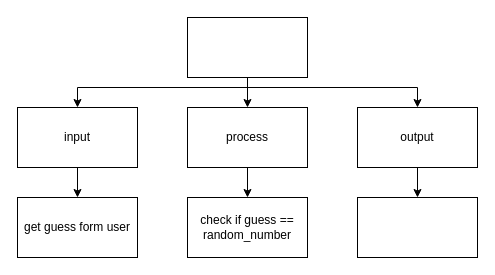
Image size: 495x275. Some labels were removed from this diagram. Each missing label, with the box of its shape:
guess random number: (186, 16, 308, 78)
show answer: (356, 196, 478, 258)
